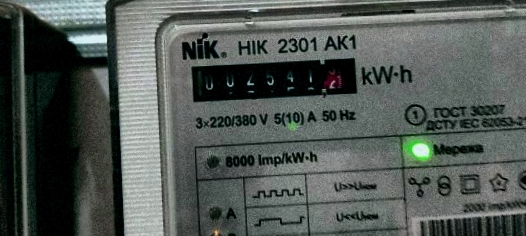0: (201, 70, 215, 92), (222, 67, 235, 89)
1: (303, 62, 315, 85)
2: (242, 65, 257, 88)
4: (283, 63, 295, 84)
5: (262, 64, 276, 88)
6: (326, 77, 337, 89)
screen: (178, 47, 369, 110)
